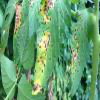Tomato Septoria leaf spot: (33, 0, 66, 94), (71, 4, 89, 96)
